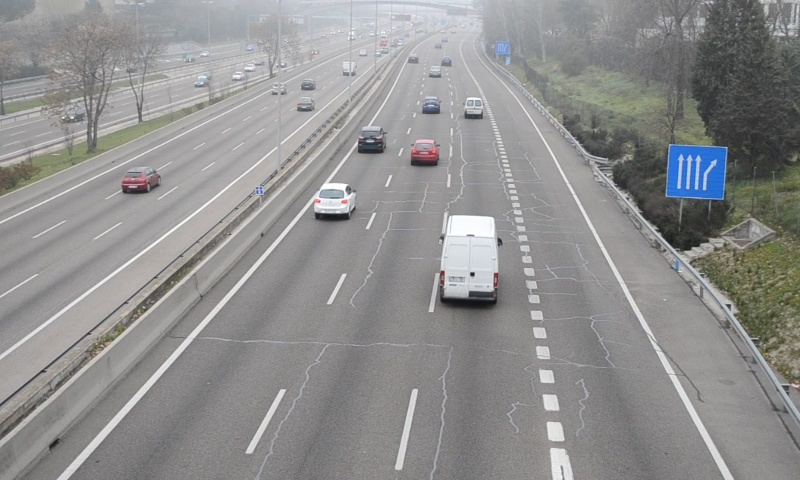car: (312, 184, 356, 215), (357, 125, 387, 154), (410, 139, 439, 165), (421, 96, 441, 114)
van: (439, 215, 498, 303), (463, 96, 485, 120)
